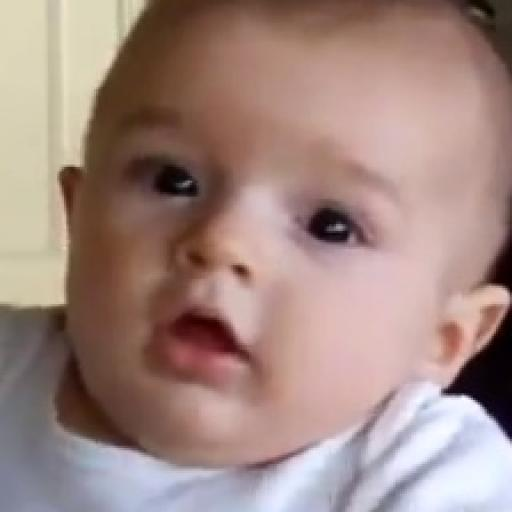Autism: (65, 6, 512, 466)
